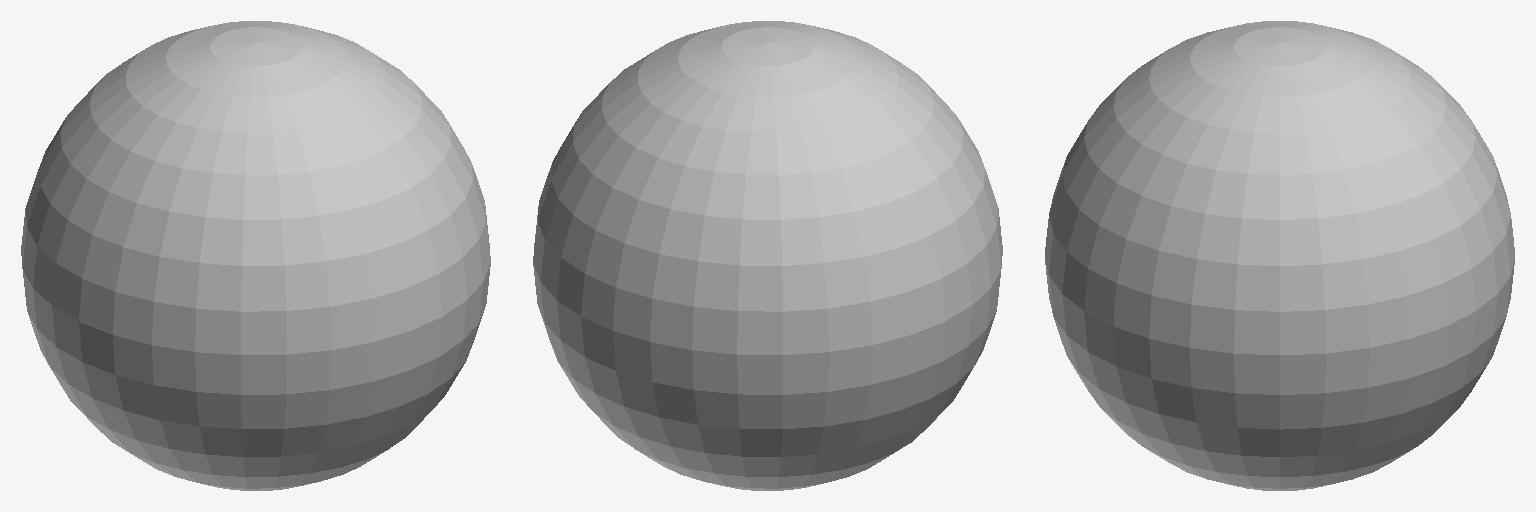
File: tankGunPivot.obj
3 views of the same model, side by side, from view 1: azimuth 30°, elevation 25°; view 2: azimuth 150°, elevation 25°; view 3: azimuth 270°, elevation 25° (orthographic).
Visible parts, largest first — view 1: Sphere; view 2: Sphere; view 3: Sphere.
Boxes of the visible parts, x1=… form: Sphere: x1=21, y1=21, x2=490, y2=490; Sphere: x1=533, y1=21, x2=1002, y2=490; Sphere: x1=1045, y1=21, x2=1514, y2=490.
Size of the model in its own units: 0.28 by 0.28 by 0.28.